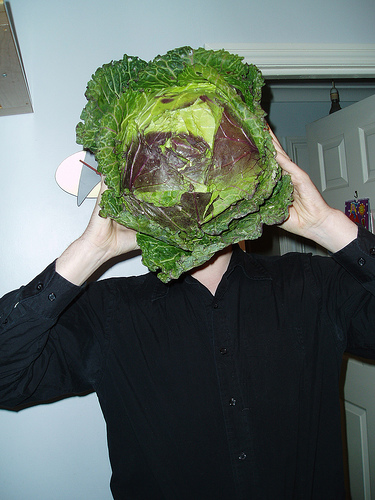cabbage: (73, 42, 295, 282)
